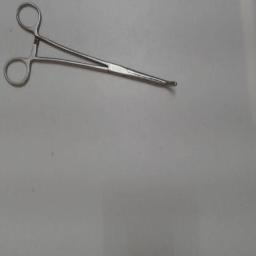Lahey Forceps: (2, 1, 182, 93)
